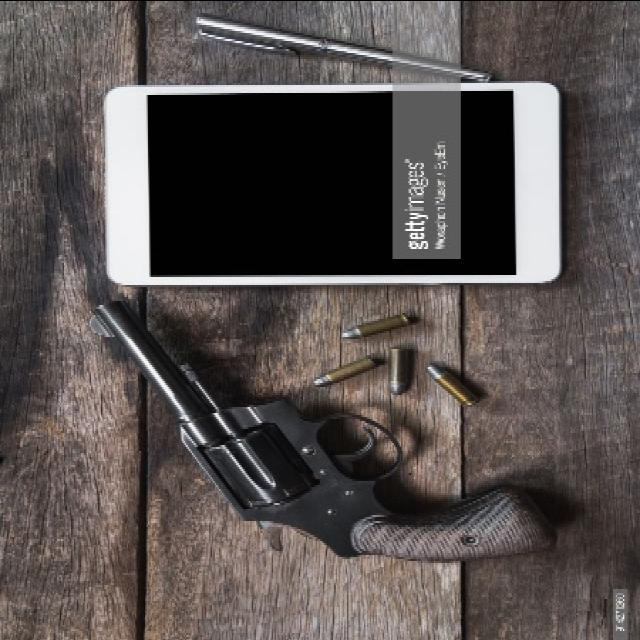handgun: (86, 301, 574, 569)
